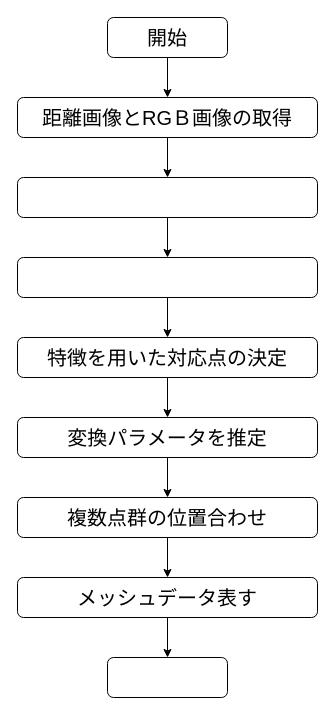
The diagram is 335 pixels wide and 715 high, and some of its shapes have lost their labels. Each missing label, with the centre of its shape:
"データ前処理" goes at point (167, 197).
"三次元特徴探索" goes at point (167, 277).
"終了" goes at point (167, 677).
